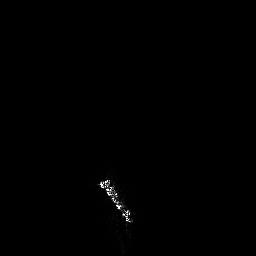ship: (95, 173, 137, 234)
